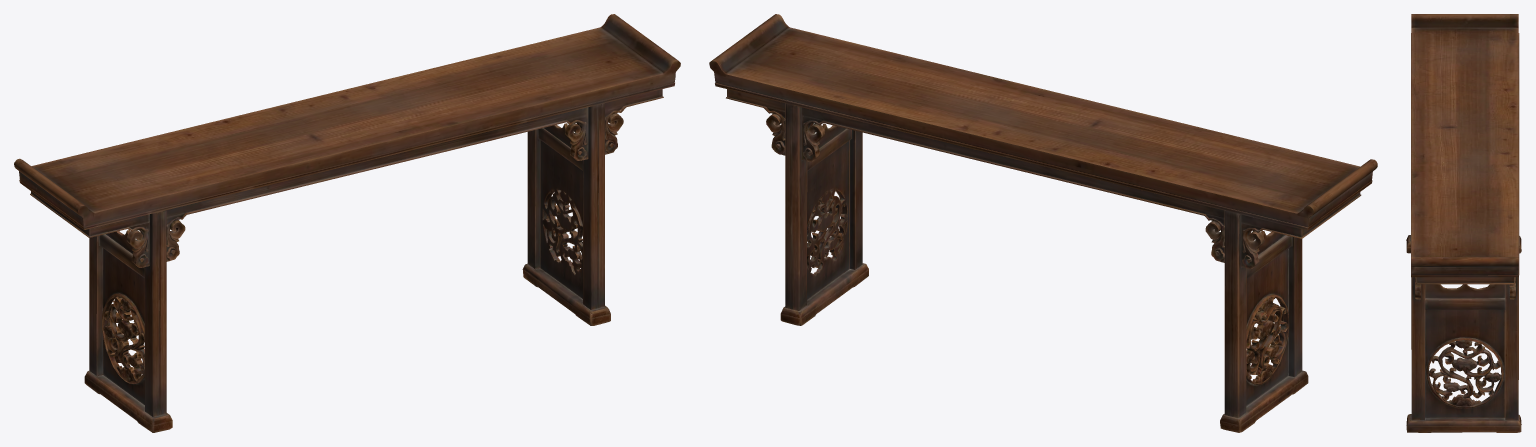
Rendered from chinese_console_table.glb.
3 views of the same model, side by side, from view 1: azimuth 30°, elevation 25°; view 2: azimuth 150°, elevation 25°; view 3: azimuth 270°, elevation 25° (orthographic). The views are drawn at different scales.
Parts seen in each view (by area): view 1: chinese_console_table; view 2: chinese_console_table; view 3: chinese_console_table.
Boxes of the visible parts, box(x1,y1,x2,y2) form: chinese_console_table: box(14, 14, 680, 432); chinese_console_table: box(709, 14, 1377, 432); chinese_console_table: box(1406, 14, 1521, 432).
Size of the model in its own units: 1.72 by 0.6603 by 0.3387.
Materials: 1 (1 with a texture image).
